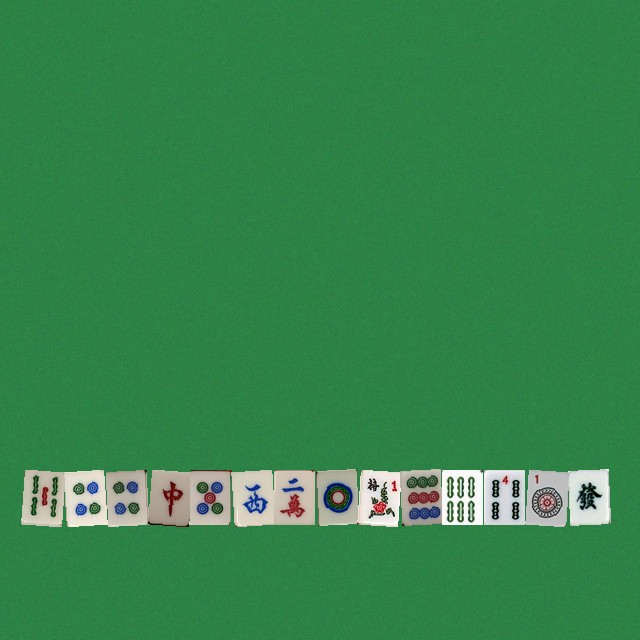tile: (21, 469, 62, 524), (63, 469, 104, 524), (105, 469, 146, 524), (147, 469, 188, 524), (189, 469, 230, 524), (231, 469, 272, 524), (273, 469, 314, 524), (315, 469, 356, 524), (357, 469, 398, 524), (399, 469, 440, 524), (441, 469, 482, 524), (483, 469, 524, 524), (525, 469, 566, 524), (567, 469, 608, 524)
